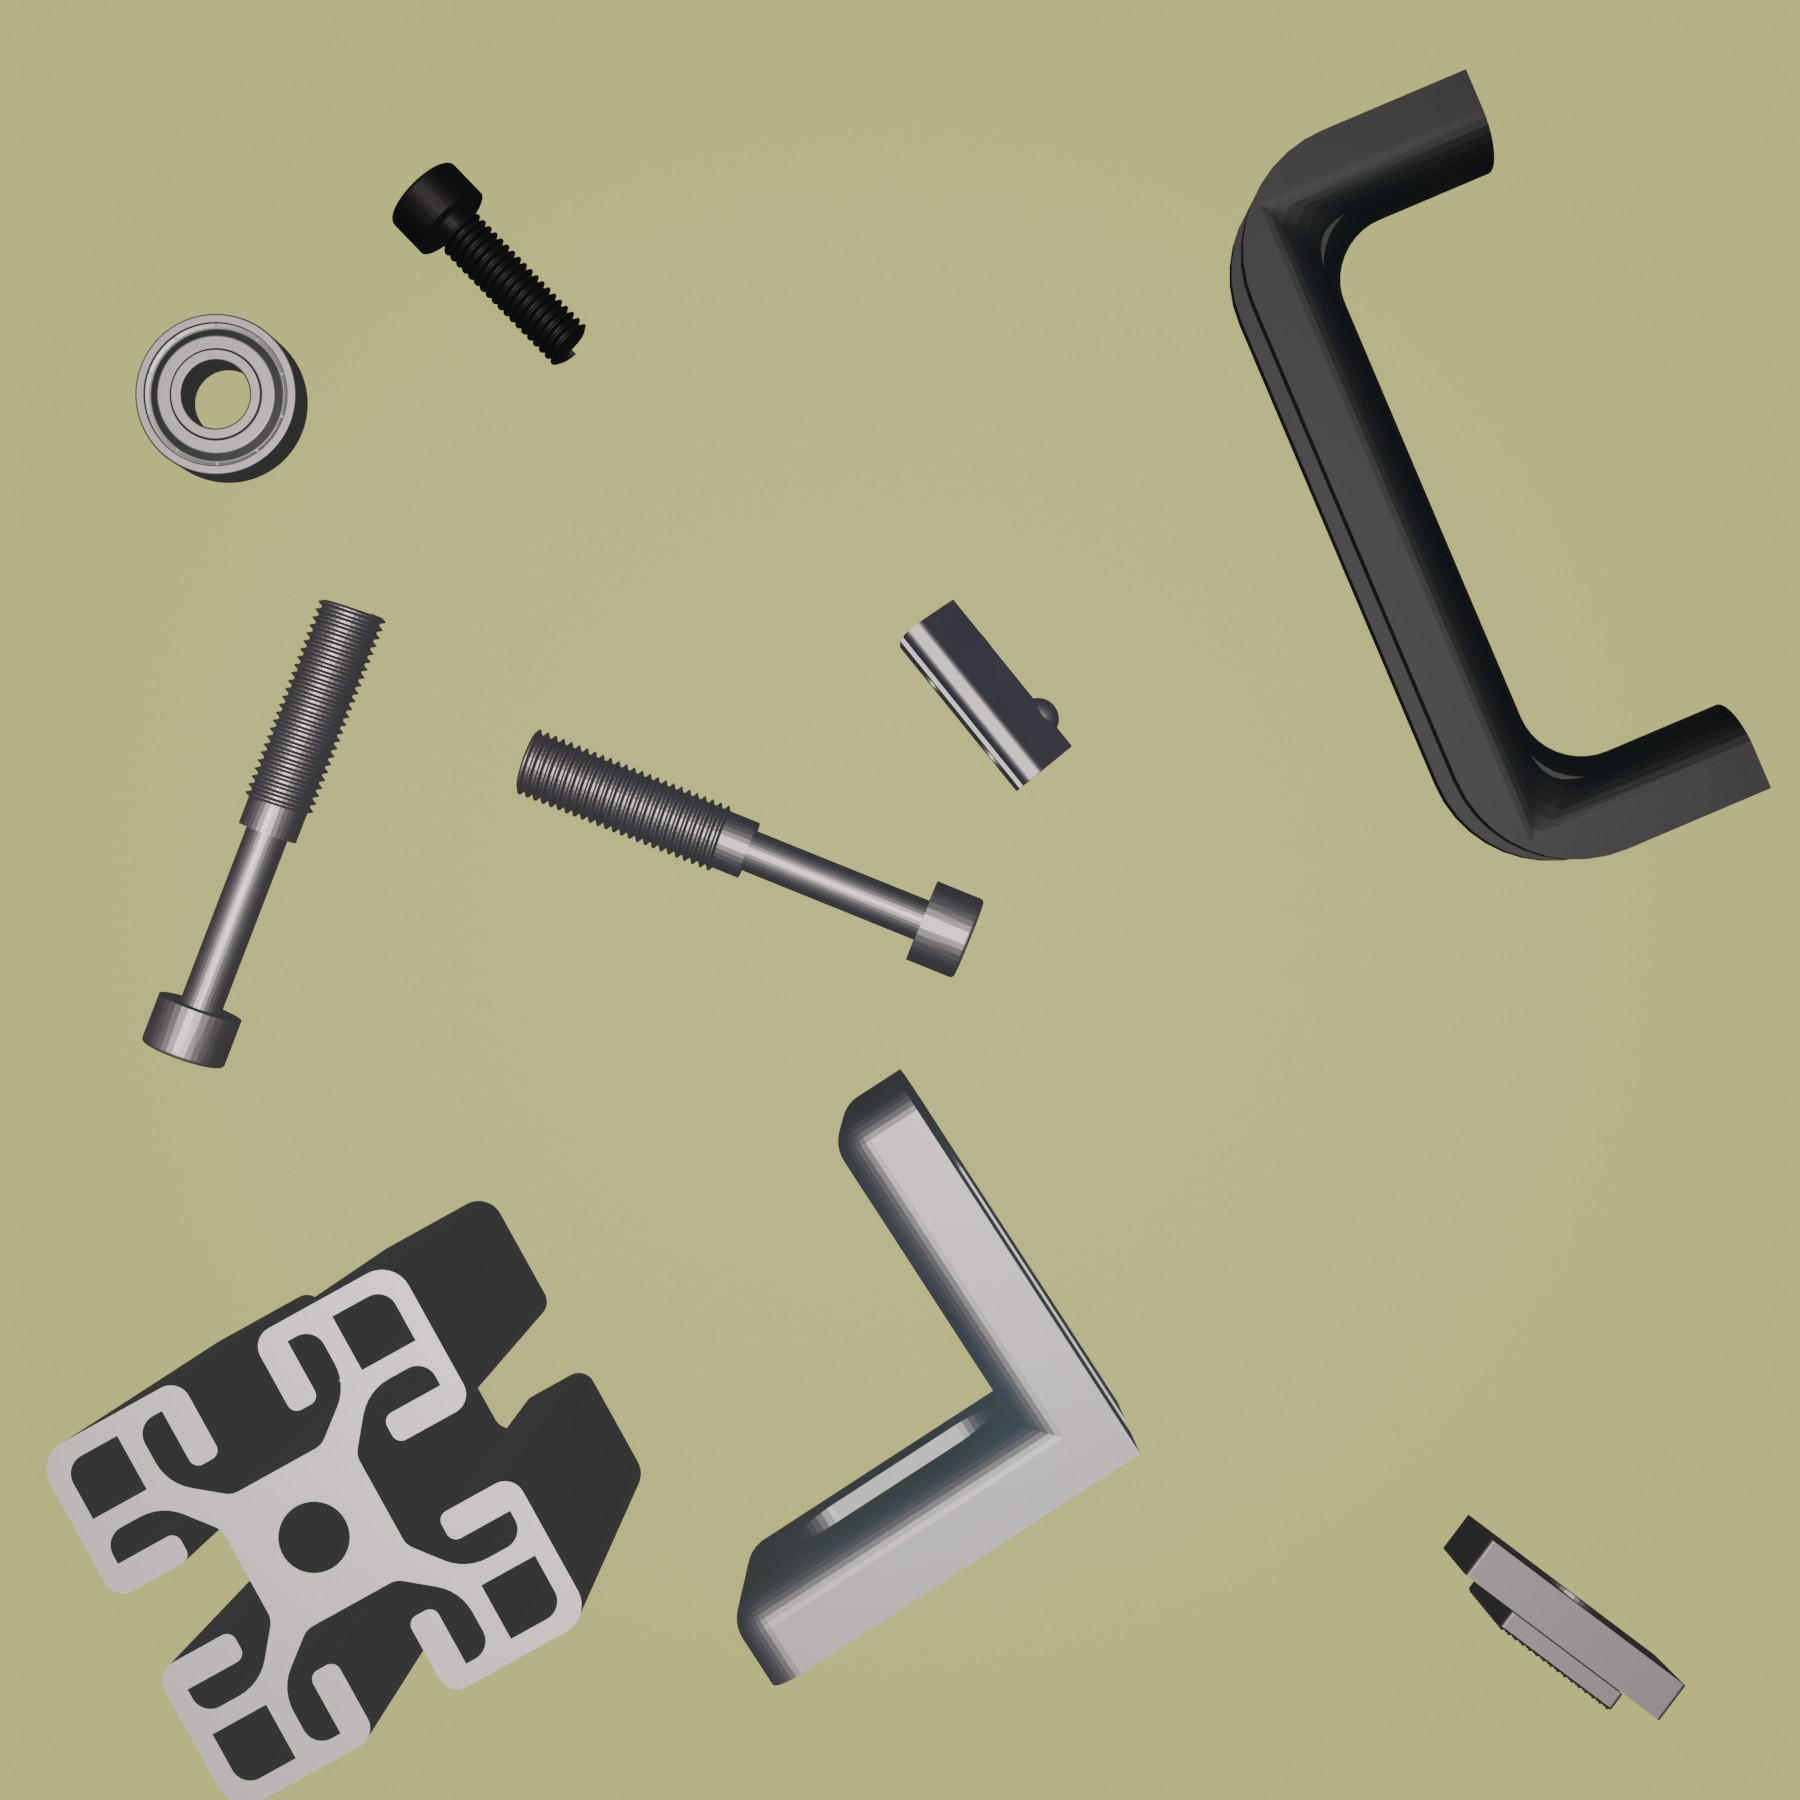Aluminium Extension: (43, 1198, 643, 1800)
Ball Bearing: (135, 312, 308, 485)
Multiwinkel: (735, 1066, 1147, 1688)
Pull Handle: (1230, 69, 1770, 862)
Shoulder Socket Head Cap Screw: (513, 729, 986, 981), (142, 593, 391, 1071)
Socket Head Cap Screw: (389, 162, 588, 368)
T Nut Square: (1439, 1508, 1688, 1727)
T Spring Nut: (897, 597, 1071, 795)
